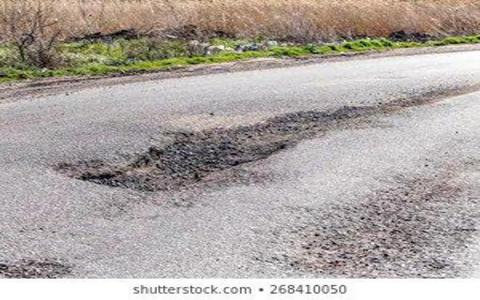patchy roads: (78, 114, 300, 223), (282, 75, 450, 192)
